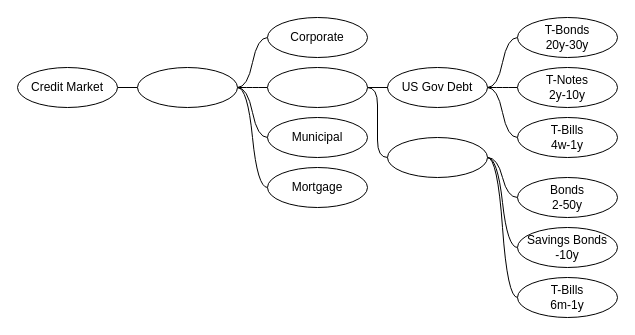
Some shapes in this 635 by 335 pixel diagram are drawn without their labels. Each missing label, with the centre of its shape:
Debt: (187,87)
Gov: (317,87)
SGP Gov Debt: (437,157)
